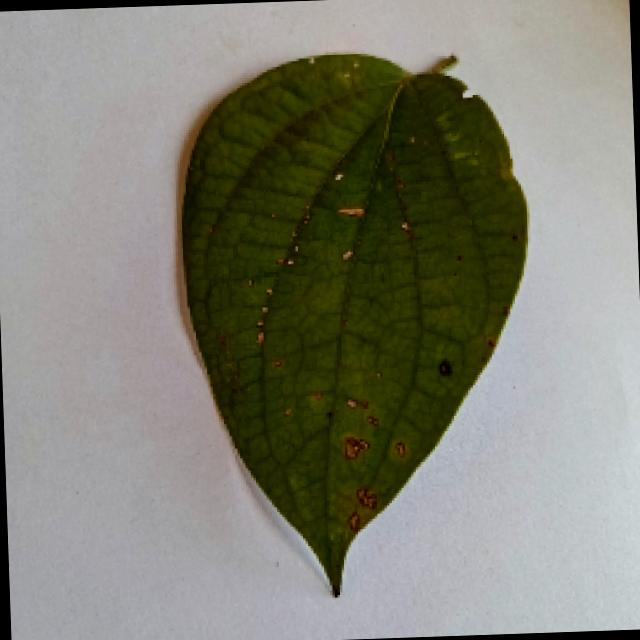pollu-disease: (163, 40, 562, 598)
